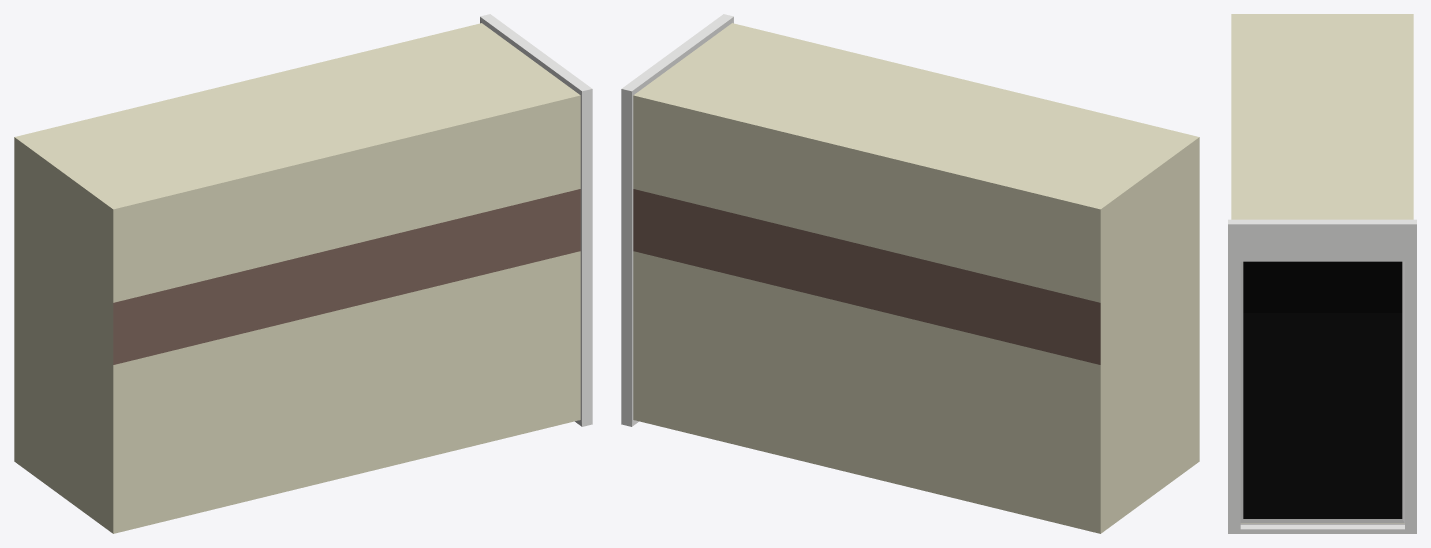
Rendered from Blackroom1.fbx.
The picture shows the model from 3 angles, left to right: view 1: azimuth 30°, elevation 25°; view 2: azimuth 150°, elevation 25°; view 3: azimuth 270°, elevation 25°; orthographic projection. The views are drawn at different scales.
Parts seen in each view (by area): view 1: pasted__BlackRoom; view 2: pasted__BlackRoom; view 3: pasted__BlackRoom.
Boxes of the visible parts, box(x1,y1,x2,y2) form: pasted__BlackRoom: box(14, 14, 592, 533); pasted__BlackRoom: box(621, 14, 1199, 533); pasted__BlackRoom: box(1228, 14, 1416, 533).
Bounding box in the file's own units: 501 × 337 × 186.
